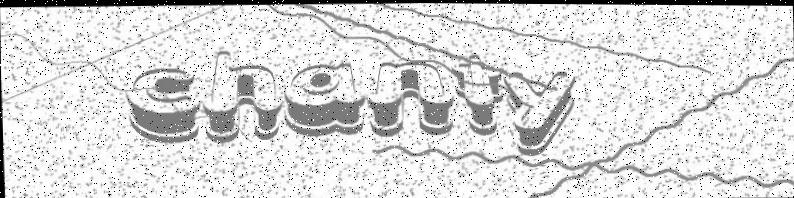a: (281, 60, 365, 137)
c: (124, 65, 200, 145)
h: (201, 46, 285, 143)
n: (365, 58, 455, 138)
t: (452, 52, 505, 136)
y: (503, 69, 577, 156)
